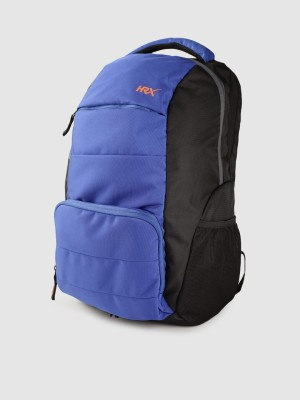backpack: (50, 36, 246, 326)
